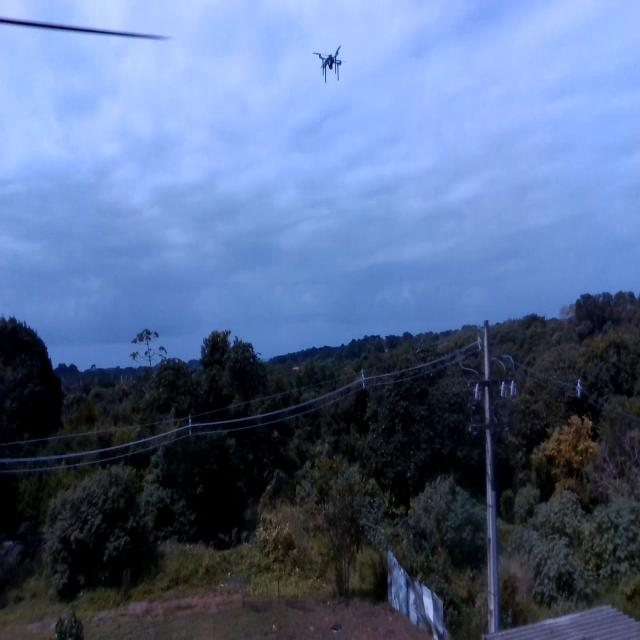-uav-: (313, 40, 349, 84)
